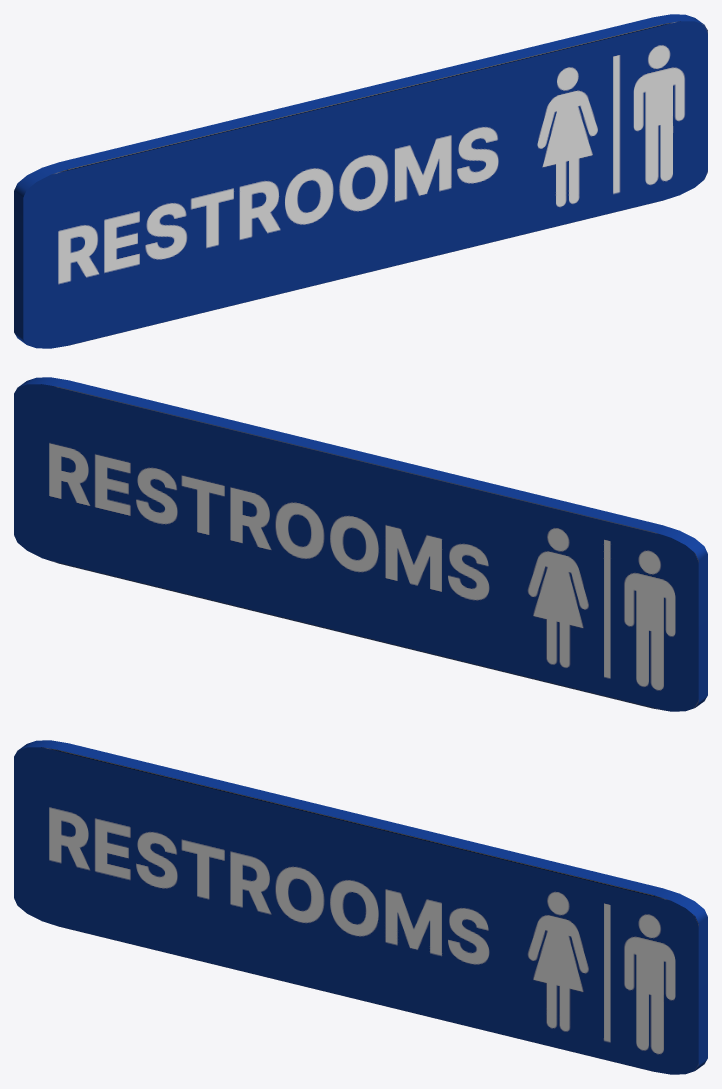
Rendered from restroom-sign.fbx.
The picture shows the model from 3 angles, top to bottom: view 1: azimuth 30°, elevation 25°; view 2: azimuth 150°, elevation 25°; view 3: azimuth 330°, elevation 25°; orthographic projection.
Parts seen in each view (by area): view 1: pasted__pCube1; view 2: pasted__pCube1; view 3: pasted__pCube1.
Part boxes in pixels (x1=…): pasted__pCube1: x1=14, y1=14, x2=707, y2=348; pasted__pCube1: x1=14, y1=377, x2=707, y2=711; pasted__pCube1: x1=14, y1=740, x2=707, y2=1074.
Size of the model in its own units: 42.52 by 10.49 by 1.
